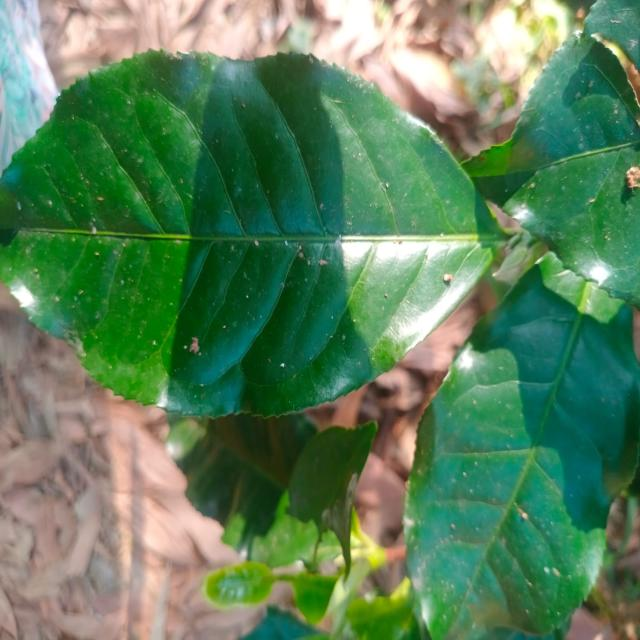Category D(7+ days, Not for Tea): (0, 36, 517, 432)
